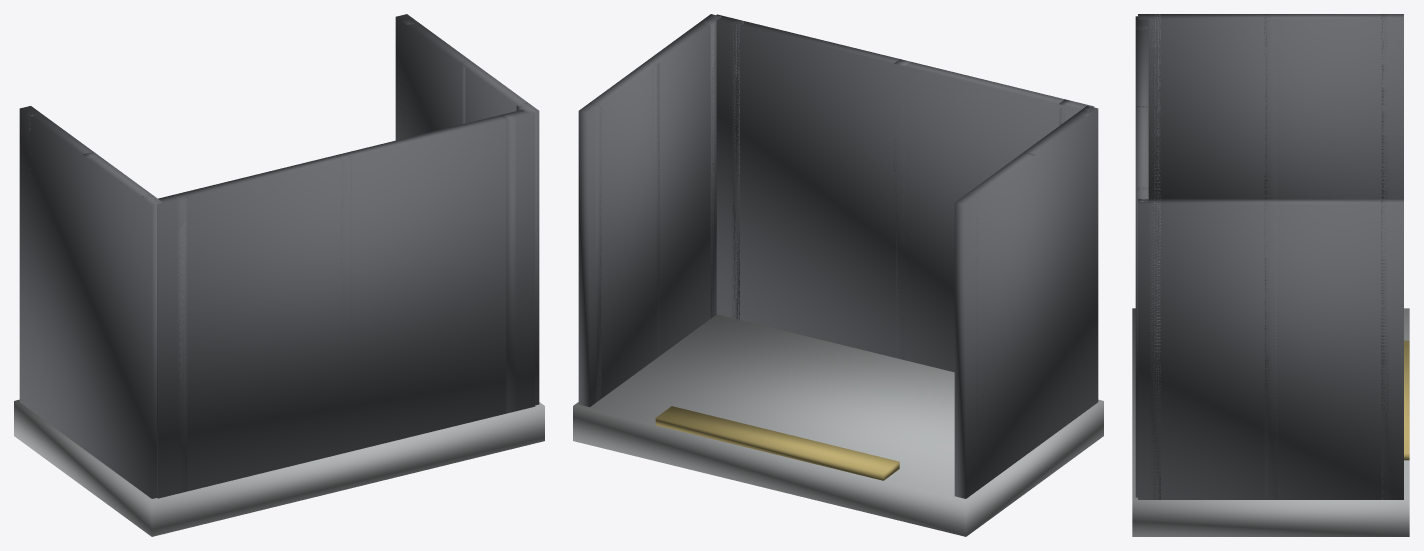
File: landing_rust_w140_d85_window.glb
The picture shows the model from 3 angles, left to right: view 1: azimuth 30°, elevation 25°; view 2: azimuth 150°, elevation 25°; view 3: azimuth 270°, elevation 25°; orthographic projection.
Parts seen in each view (by area): view 1: world; view 2: world; view 3: world.
Boxes of the visible parts, x1,y1,x2,y2 form: world: (14, 14, 544, 536); world: (573, 14, 1103, 536); world: (1132, 14, 1409, 536).
Size of the model in its own units: 1.4 by 1.12 by 0.85.
